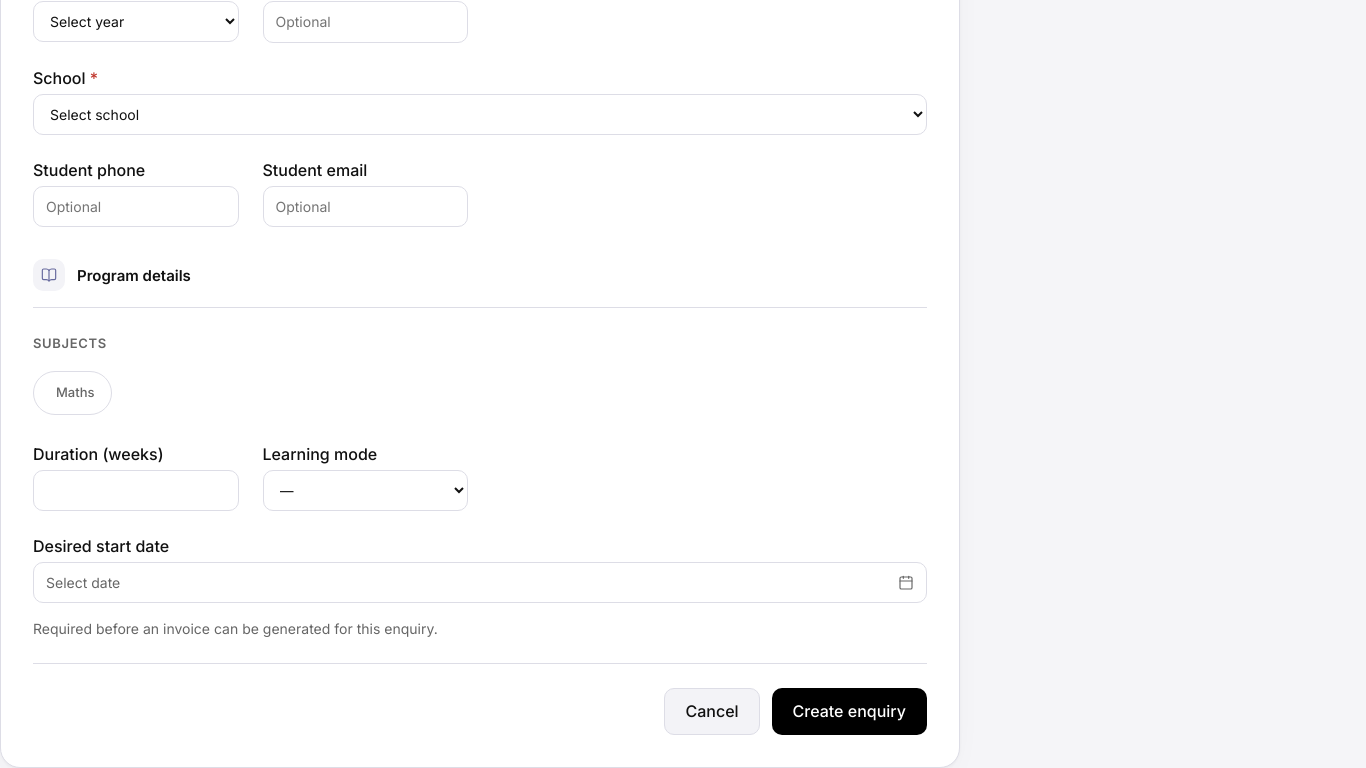
Test: EnquiryCreatePage › shows the desired start date as a custom calendar picker, not the native date input
The width and height of the screenshot is (1366, 768).
(page scrolled)
Click the button named "Desired start date" at [83, 583], box [33,562,927,603]
(page scrolled)
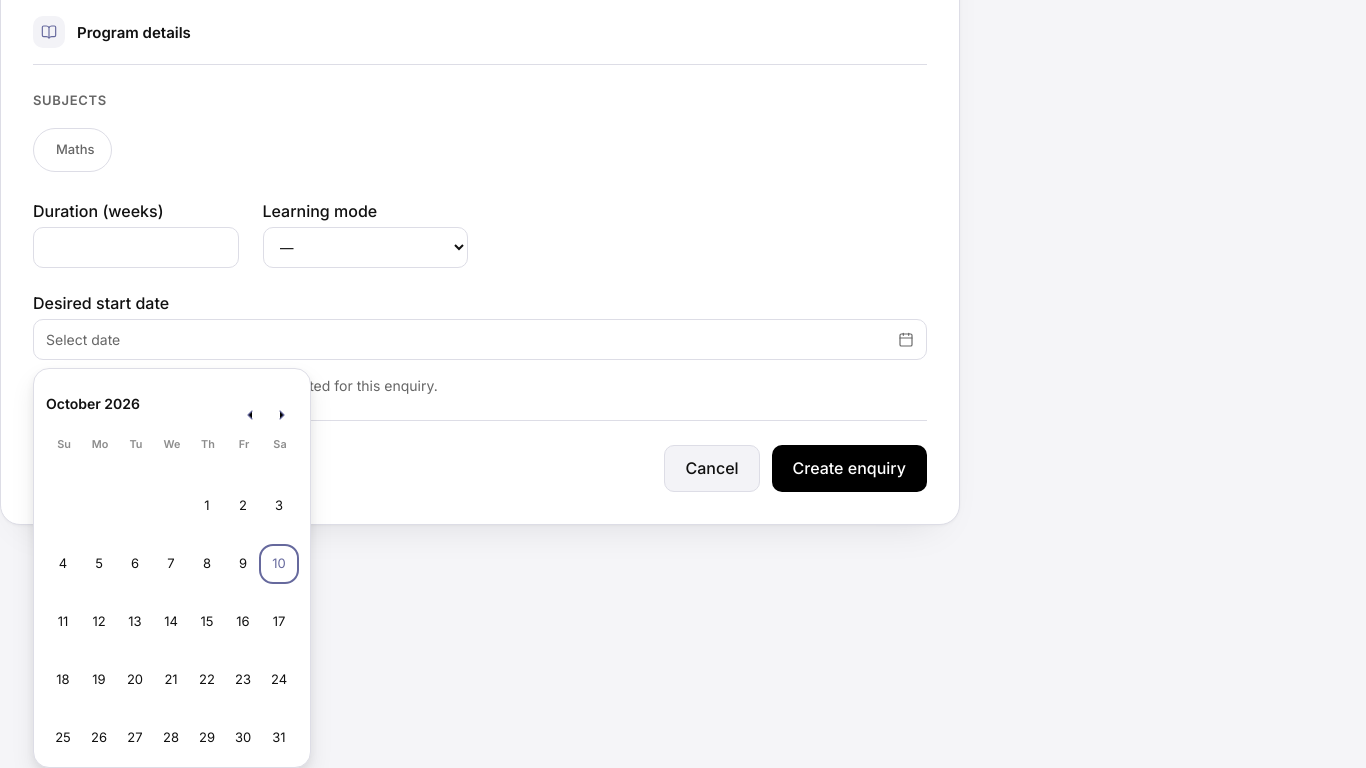
Expected: the dialog is shown, [33,368,311,767]
